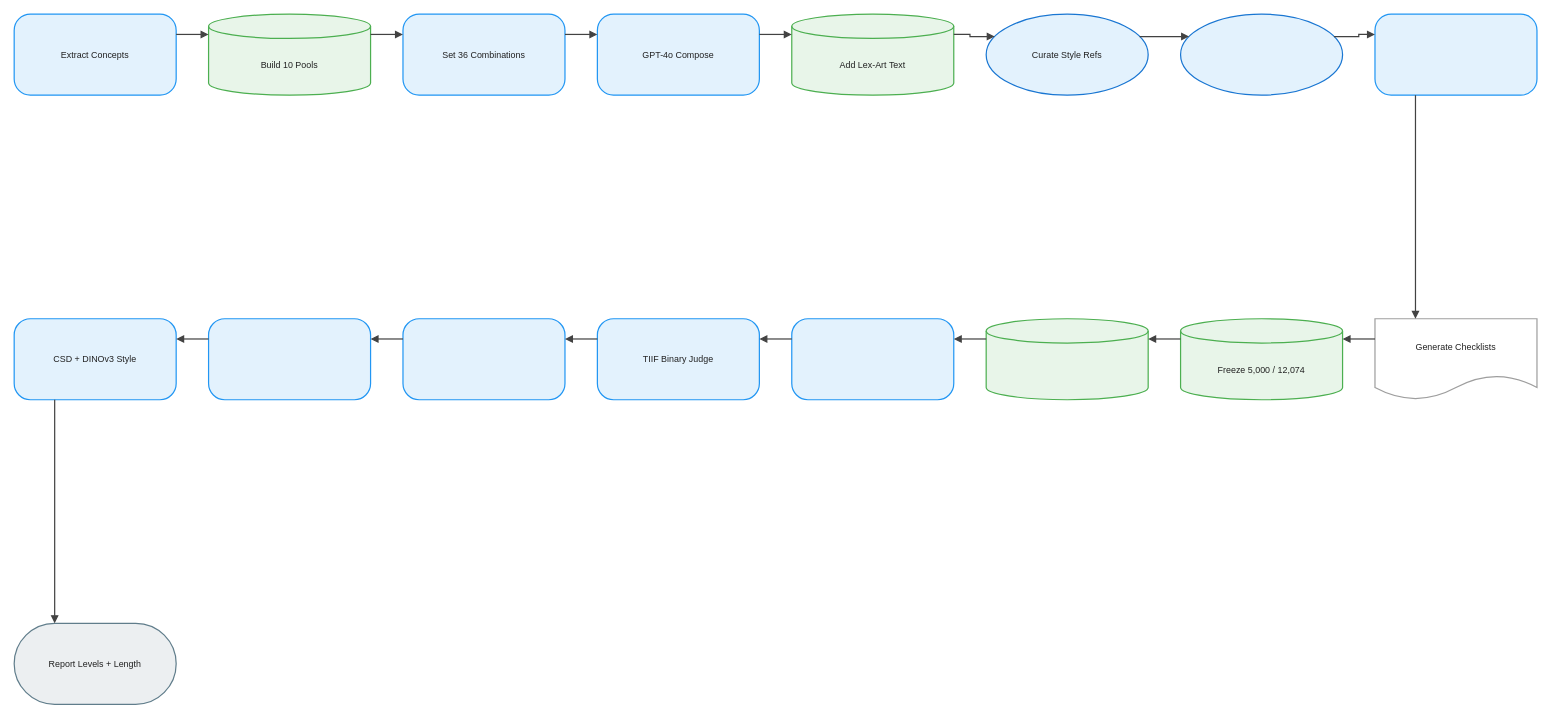
The diagram is 1552 pixels wide and 719 high, and some of its shapes have lost their labels. The shapes that lost their labels are listed below. From the top down, each one's box as (x1, y1, x2, y2) in pixels, then its label:
(1180, 13, 1343, 95): 100 Designer Prompts
(1374, 13, 1537, 95): Expand Short to Long
(208, 318, 371, 400): GNED Text
(402, 318, 565, 400): Average Checklist
(791, 318, 954, 400): Generate Images
(985, 318, 1148, 400): Build TestMini
